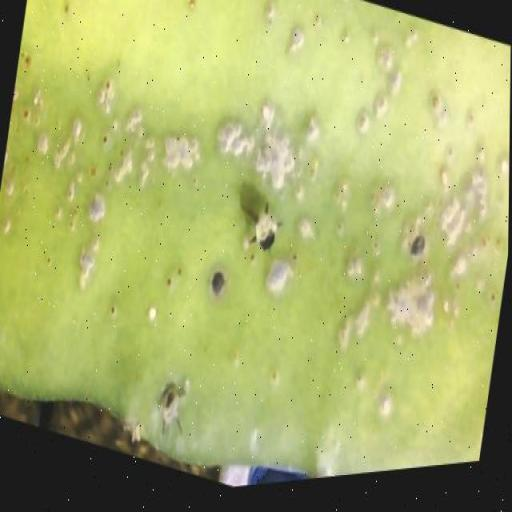stemcanker: (278, 66, 302, 104), (143, 165, 166, 199), (254, 156, 277, 190), (124, 212, 150, 242), (320, 292, 346, 320), (195, 46, 215, 80), (188, 15, 210, 41), (160, 10, 184, 33), (238, 14, 266, 33), (196, 436, 210, 463), (151, 74, 163, 100), (237, 169, 249, 194), (118, 359, 132, 379), (351, 65, 362, 90)
